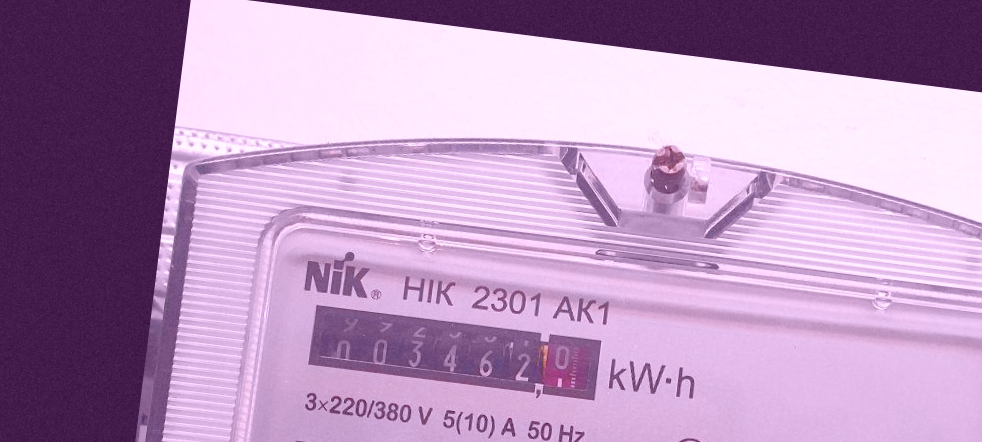0: (368, 334, 390, 365), (551, 342, 571, 372), (331, 336, 352, 361)
2: (511, 349, 533, 383)
3: (403, 337, 425, 371)
4: (440, 340, 461, 374)
6: (473, 345, 497, 381)
9: (337, 314, 359, 335)
screen: (293, 290, 613, 420)
